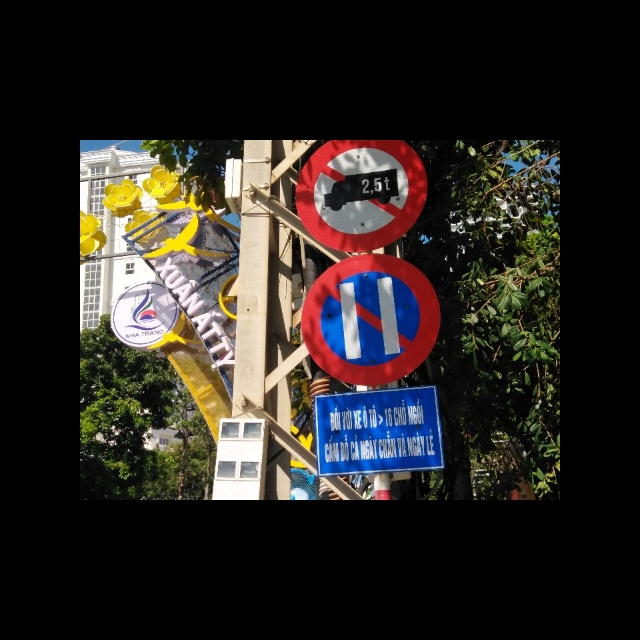Cấm xe tải: (296, 140, 429, 255)
Cấm đỗ xe ngày chẵn: (295, 257, 441, 387)
